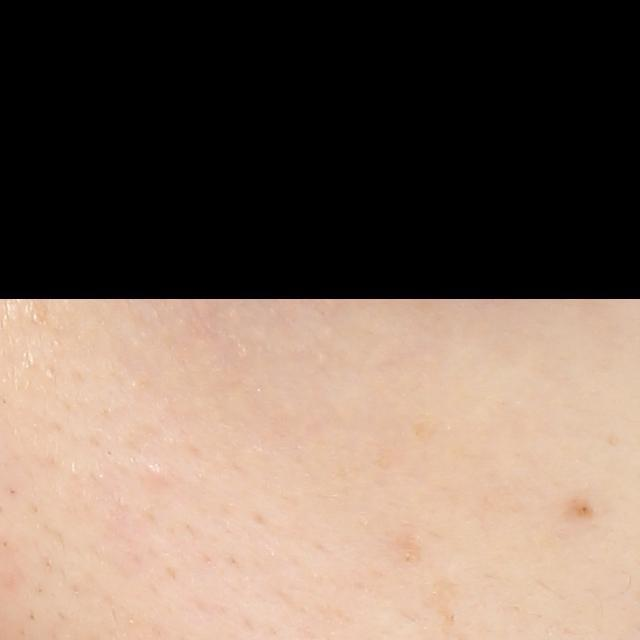comedo: (148, 460, 167, 480)
